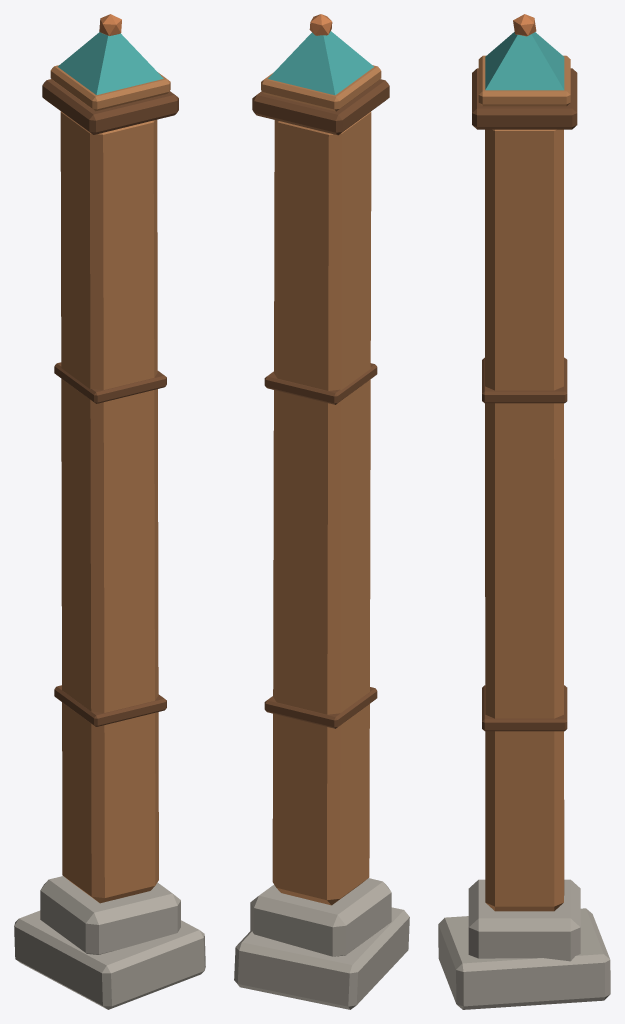
Rendered from corner_post.glb.
3 renders of one model, left to right at view 1: azimuth 30°, elevation 25°; view 2: azimuth 150°, elevation 25°; view 3: azimuth 270°, elevation 25°, orthographic.
Visible parts, largest first — view 1: Corner Post; view 2: Corner Post; view 3: Corner Post.
Boxes of the visible parts, x1,y1,x2,y2 form: Corner Post: (14, 14, 205, 1009); Corner Post: (234, 14, 409, 1009); Corner Post: (438, 14, 610, 1009).
Size of the model in its own units: 0.4699 by 3.26 by 0.5245.
Materials: 1 (1 with a texture image).
